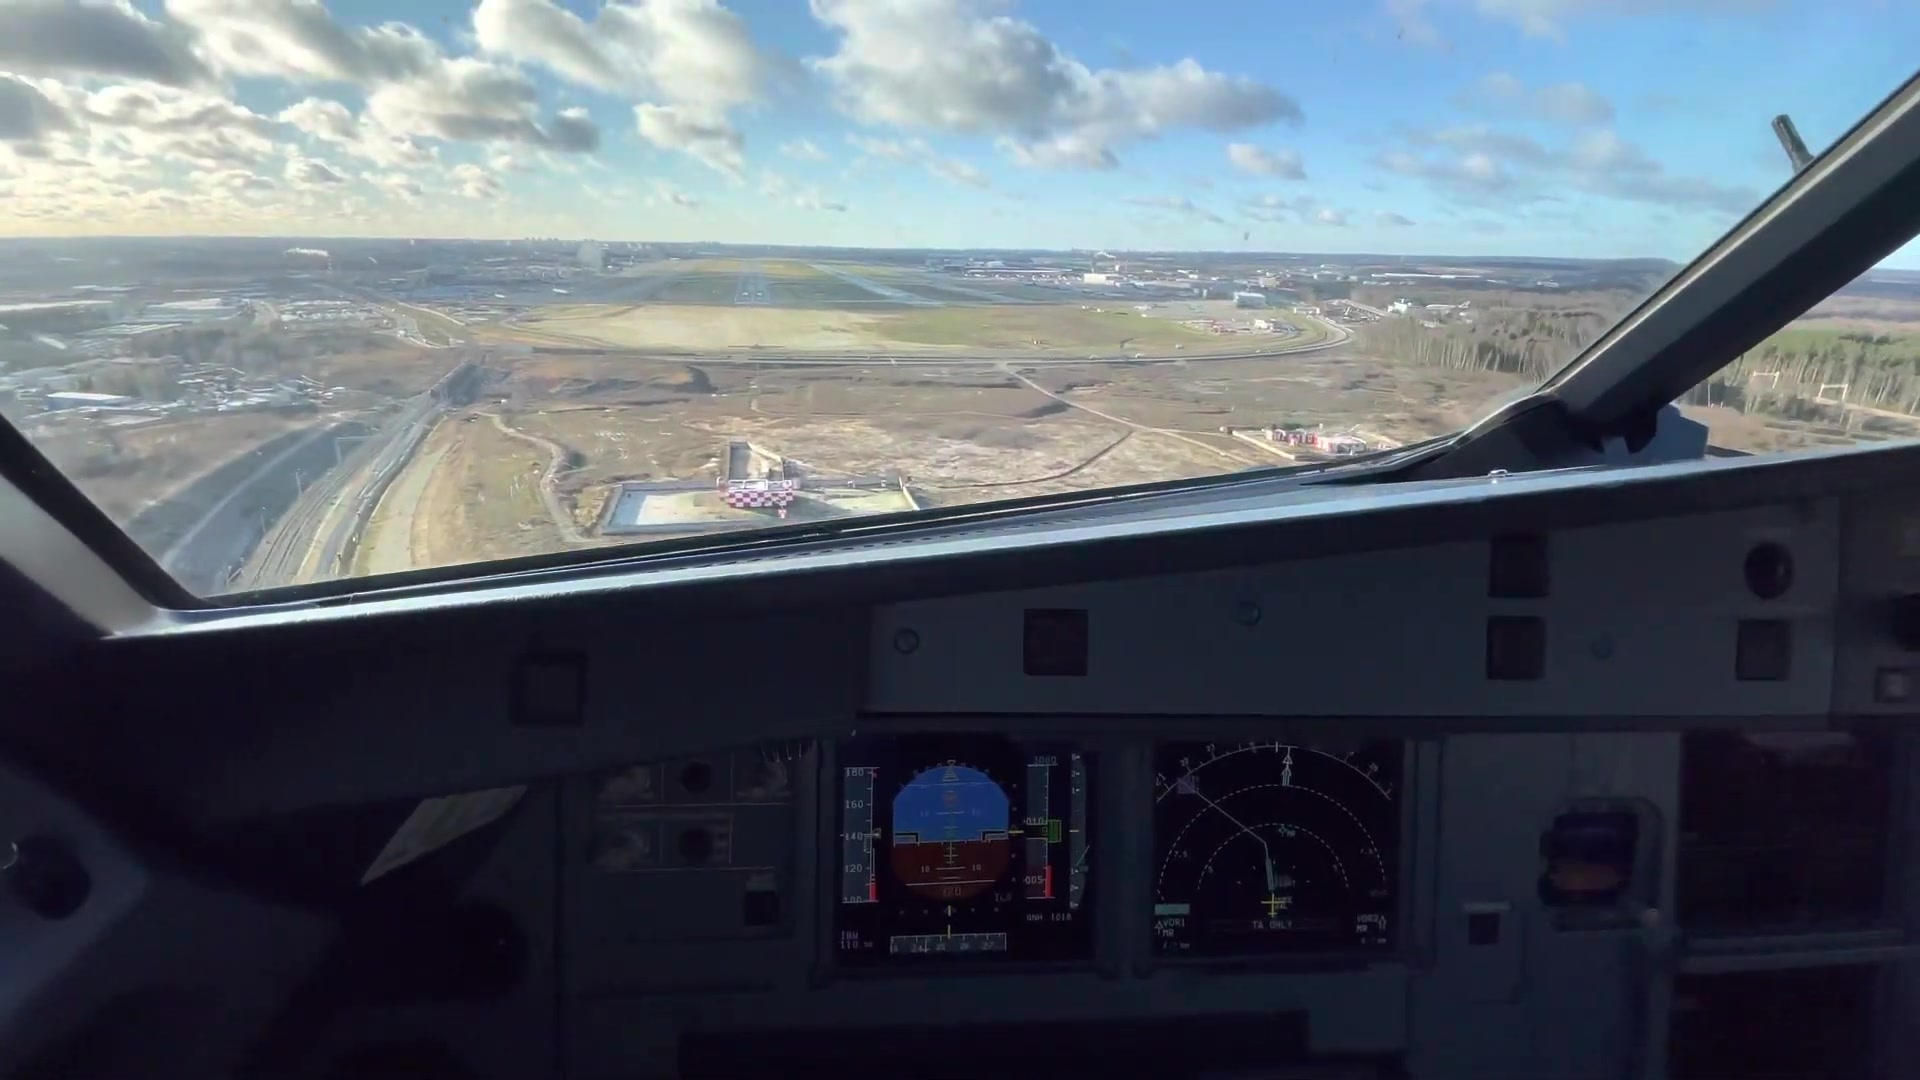runway: (727, 251, 771, 306)
